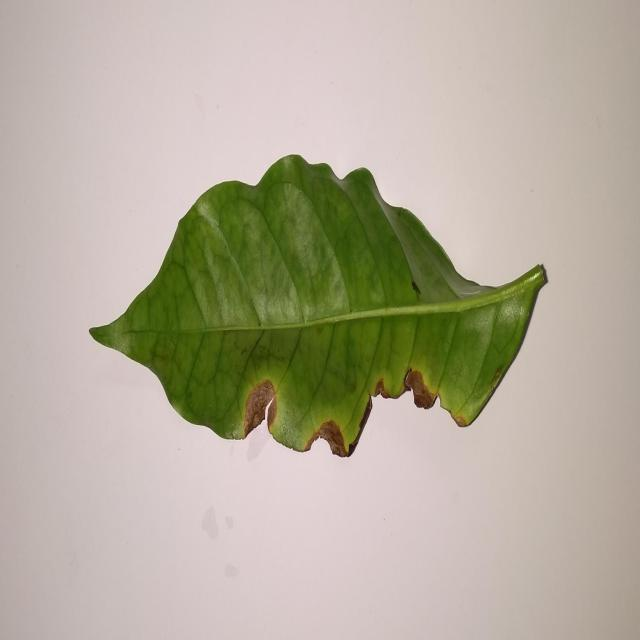Enfermedad-Antracnosis: (88, 155, 549, 460)
